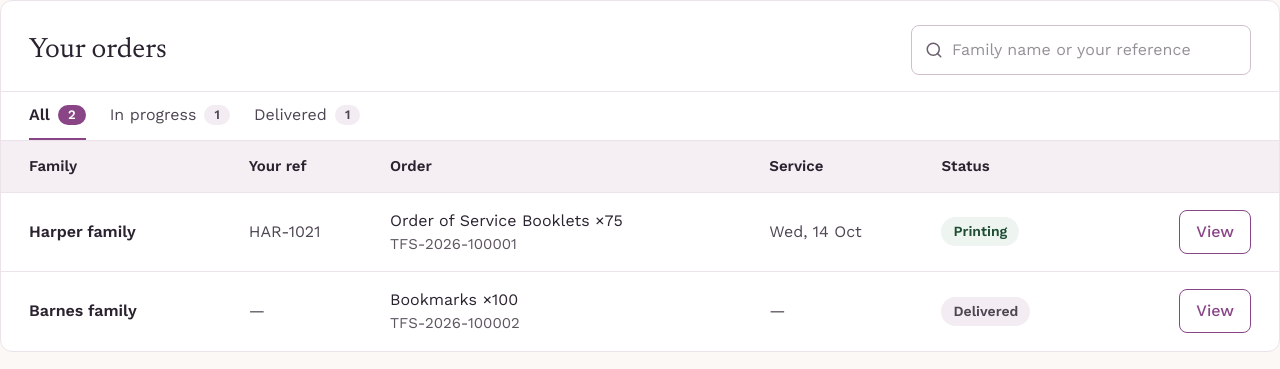
TradeOrdersTable › searches by reference and says when nothing matches
Type "har-1021" into the search field at [1081, 50], box 911,25 -> 1251,75
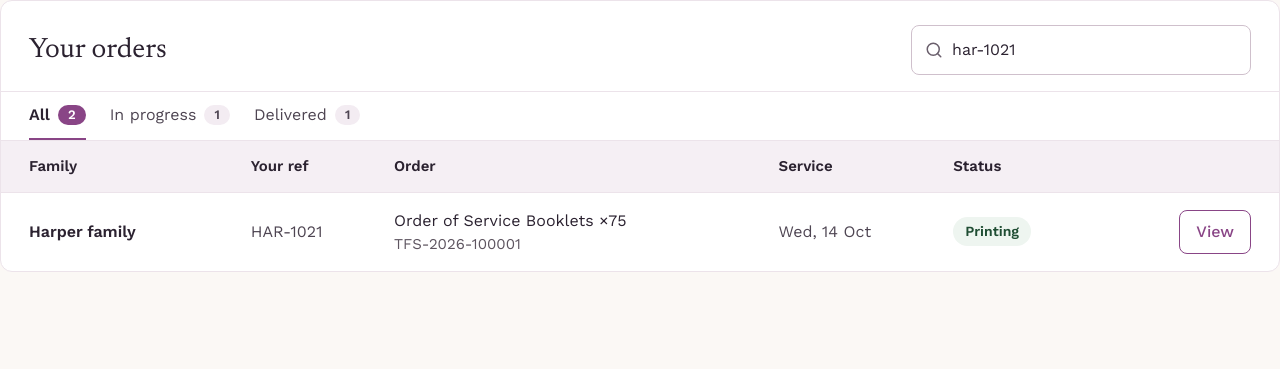
Replace the text in the search field with "nobody" at [1081, 50], box 911,25 -> 1251,75
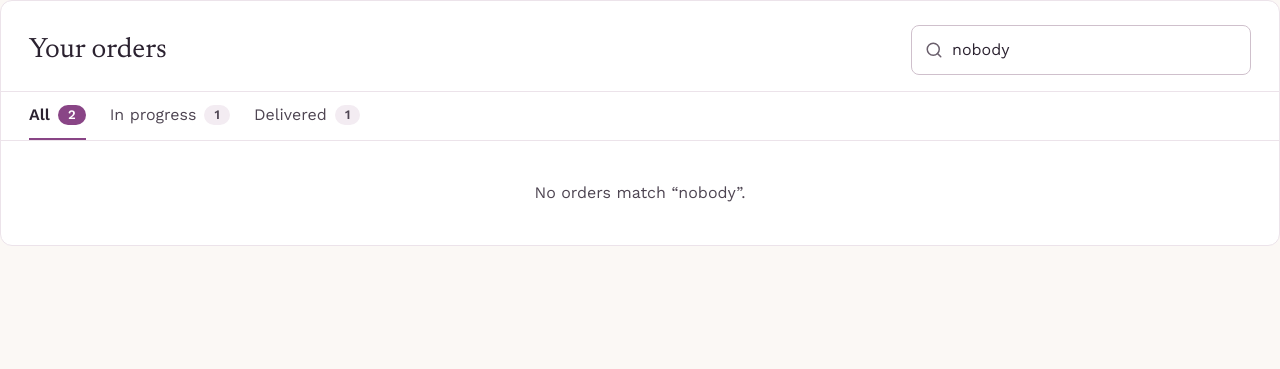
Check: the message reads "No orders match “nobody”.", box 534,183 -> 746,202
